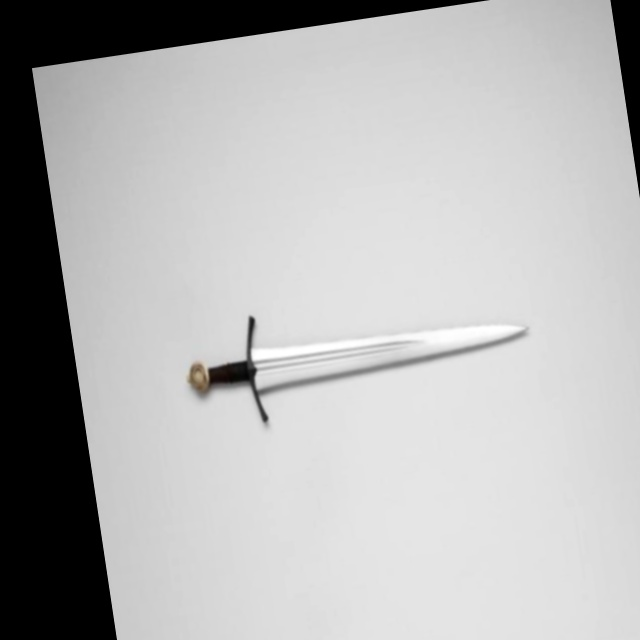Sharp-Object: (167, 300, 533, 416)
